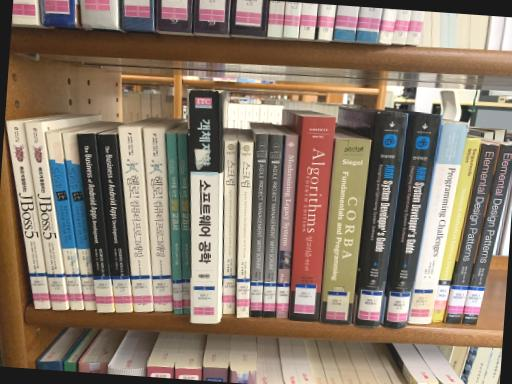book-spine: (382, 113, 442, 329), (408, 122, 469, 325), (354, 113, 407, 328), (288, 116, 336, 321), (319, 139, 372, 324), (445, 144, 499, 324), (461, 144, 512, 325), (431, 139, 480, 322), (23, 122, 67, 311), (6, 122, 49, 309), (188, 90, 220, 323), (45, 133, 84, 310), (77, 133, 114, 313), (117, 127, 153, 312), (96, 135, 132, 312), (61, 134, 96, 311), (143, 129, 172, 312), (276, 135, 298, 317), (263, 135, 284, 317), (250, 133, 268, 317), (165, 133, 183, 315), (236, 142, 253, 317), (222, 141, 238, 314), (177, 133, 189, 314)
